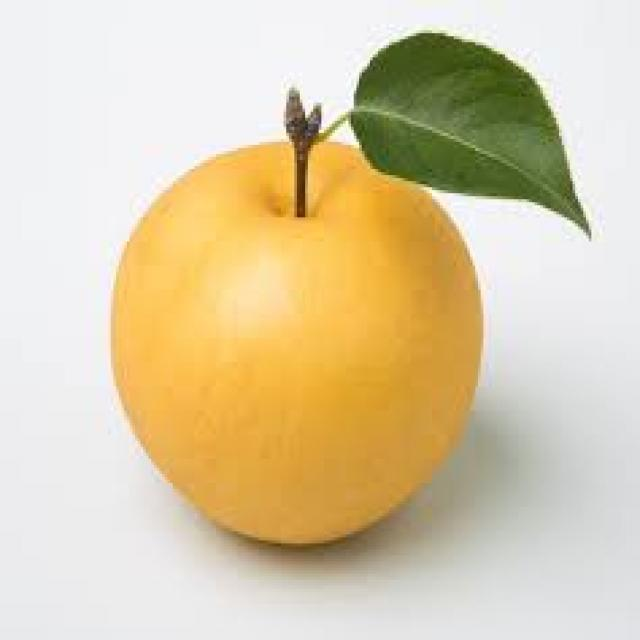pear: (113, 127, 483, 545)
